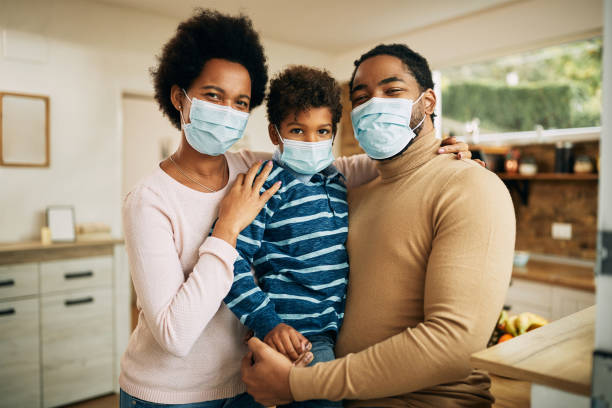with mask: (346, 38, 436, 159), (180, 57, 254, 156), (274, 88, 338, 174)
